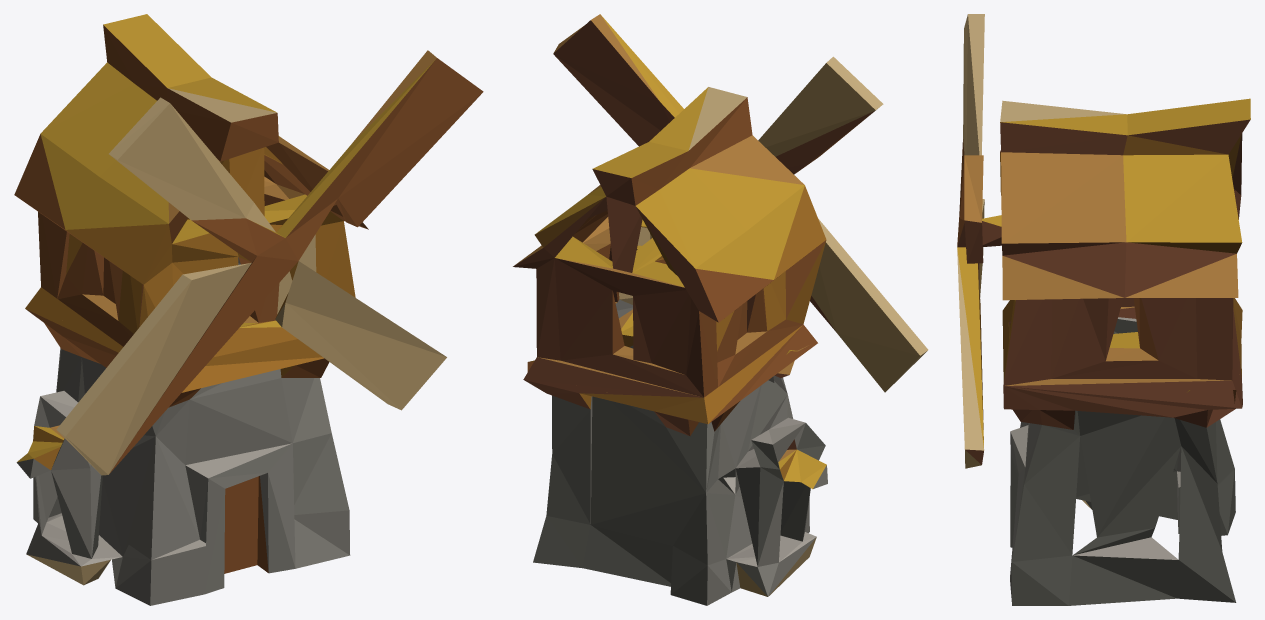
File: windmill.glb
The picture shows the model from 3 angles, left to right: view 1: azimuth 30°, elevation 25°; view 2: azimuth 150°, elevation 25°; view 3: azimuth 270°, elevation 25°; orthographic projection. The views are drawn at different scales.
Size of the model in its own units: 3.35 by 4 by 2.13.
